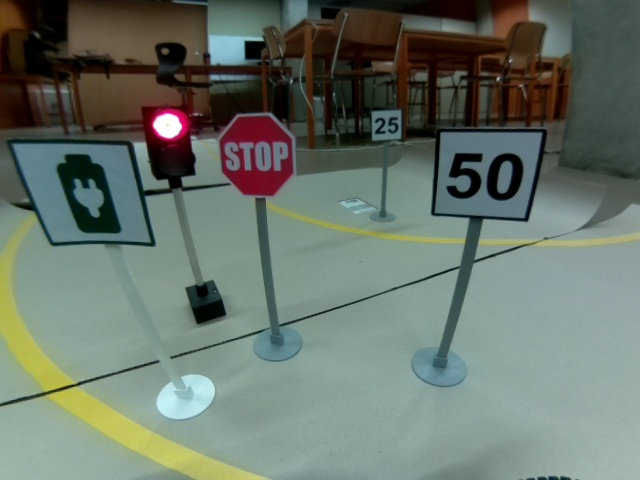battery: (4, 136, 159, 250)
speed25: (370, 108, 404, 142)
speed50: (431, 126, 550, 223)
stop: (218, 110, 298, 199)
traffic light: (140, 105, 198, 182)
